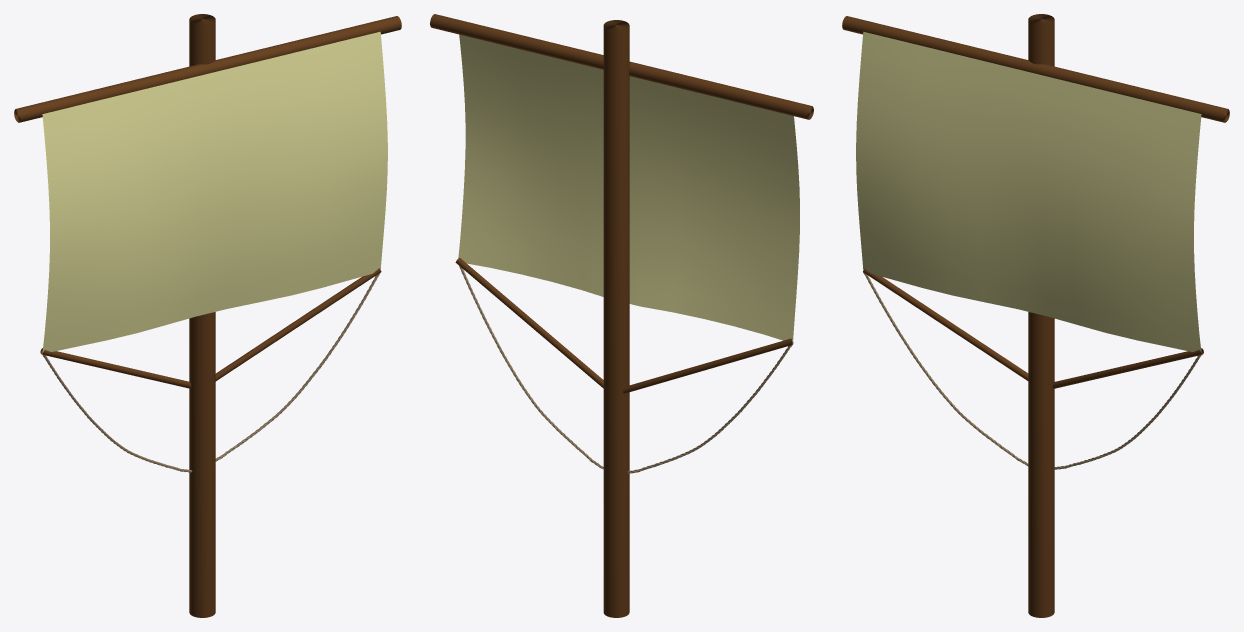
The model's file is Mast and Sail.fbx.
3 views of the same model, side by side, from view 1: azimuth 30°, elevation 25°; view 2: azimuth 150°, elevation 25°; view 3: azimuth 330°, elevation 25° (orthographic).
Parts seen in each view (by area): view 1: Plane, Cylinder, Cylinder.001, Cylinder.002, Cylinder.003, Circle.002, Circle.001; view 2: Plane, Cylinder, Cylinder.001, Cylinder.002, Cylinder.003, Circle.002, Circle.001; view 3: Plane, Cylinder, Cylinder.001, Cylinder.003, Cylinder.002, Circle.001, Circle.002.
Boxes of the visible parts, left/top/right/bottom form: Plane: left=42, top=31, right=387, bottom=353; Cylinder: left=189, top=14, right=215, bottom=617; Cylinder.001: left=14, top=16, right=401, bottom=122; Cylinder.002: left=215, top=268, right=381, bottom=381; Cylinder.003: left=40, top=348, right=191, bottom=388; Circle.002: left=215, top=272, right=380, bottom=461; Circle.001: left=42, top=354, right=192, bottom=472; Plane: left=458, top=34, right=799, bottom=343; Cylinder: left=603, top=20, right=629, bottom=617; Cylinder.001: left=430, top=14, right=813, bottom=119; Cylinder.002: left=455, top=258, right=603, bottom=388; Cylinder.003: left=623, top=338, right=793, bottom=393; Circle.002: left=459, top=266, right=603, bottom=469; Circle.001: left=627, top=345, right=792, bottom=473; Plane: left=856, top=31, right=1201, bottom=352; Cylinder: left=1028, top=14, right=1054, bottom=617; Cylinder.001: left=842, top=16, right=1229, bottom=122; Cylinder.003: left=863, top=268, right=1028, bottom=380; Cylinder.002: left=1052, top=348, right=1203, bottom=388; Circle.001: left=863, top=272, right=1028, bottom=465; Circle.002: left=1054, top=353, right=1202, bottom=469.
Size of the model in its own units: 291 by 433 by 32.07.
